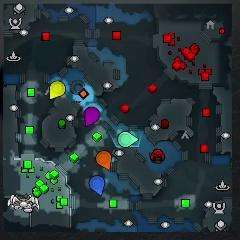p1: (90, 176, 104, 195)
p2: (118, 130, 139, 149)
p3: (84, 106, 100, 126)
p4: (49, 81, 65, 99)
p5: (96, 150, 112, 171)
